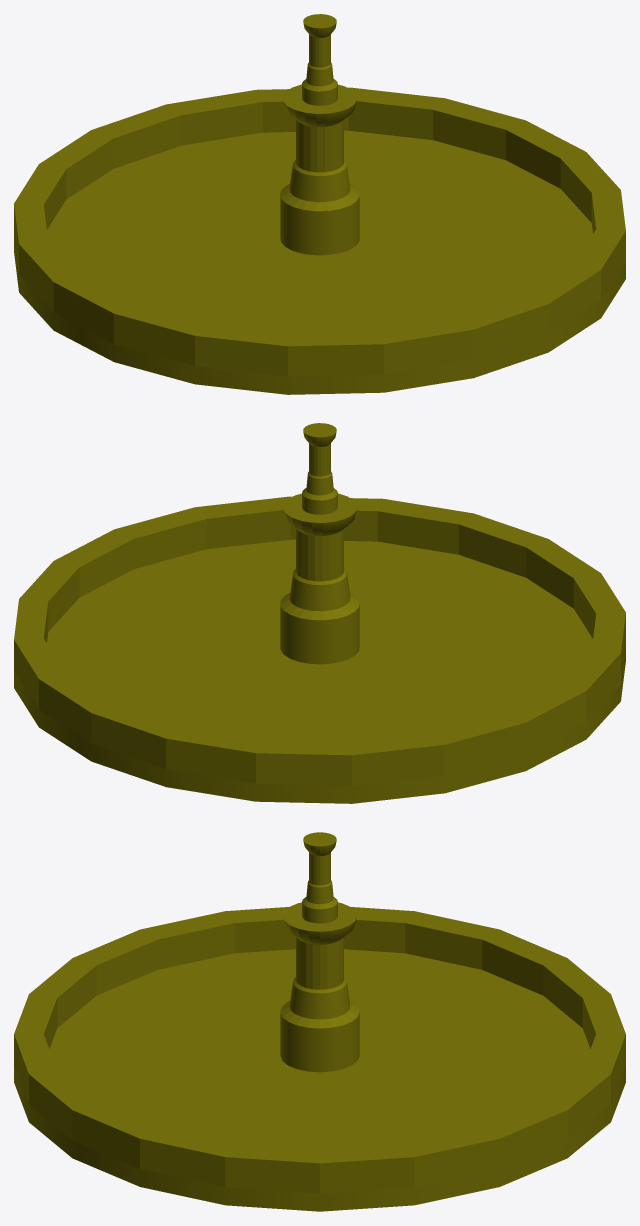
File: Fountain_20.fbx
3 views of the same model, one above another, from view 1: azimuth 30°, elevation 25°; view 2: azimuth 150°, elevation 25°; view 3: azimuth 270°, elevation 25° (orthographic).
Visible parts, largest first — view 1: fountain1; view 2: fountain1; view 3: fountain1.
Boxes of the visible parts, x1,y1,x2,y2 form: fountain1: (14, 14, 625, 394); fountain1: (14, 423, 625, 803); fountain1: (14, 832, 625, 1211).
Size of the model in its own units: 1232 by 540 by 1232.
